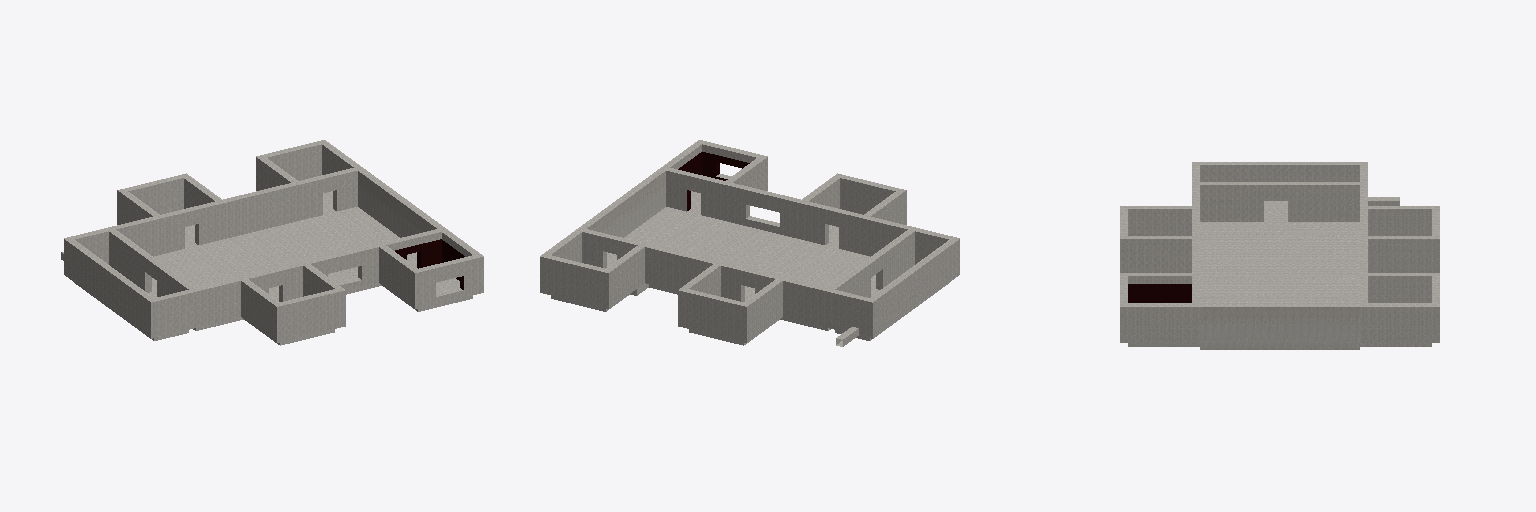
The picture shows the model from 3 angles: view 1: azimuth 30°, elevation 25°; view 2: azimuth 150°, elevation 25°; view 3: azimuth 270°, elevation 25°; orthographic projection.
Visible parts, largest first — view 1: pb-MergedObject-366968; view 2: pb-MergedObject-366968; view 3: pb-MergedObject-366968.
Part boxes in pixels (x1,y1,x2,y2): pb-MergedObject-366968: (61, 140, 483, 345); pb-MergedObject-366968: (540, 140, 959, 346); pb-MergedObject-366968: (1120, 162, 1439, 349).
Size of the model in its own units: 43 by 6 by 40.
Materials: 2 (1 with a texture image).